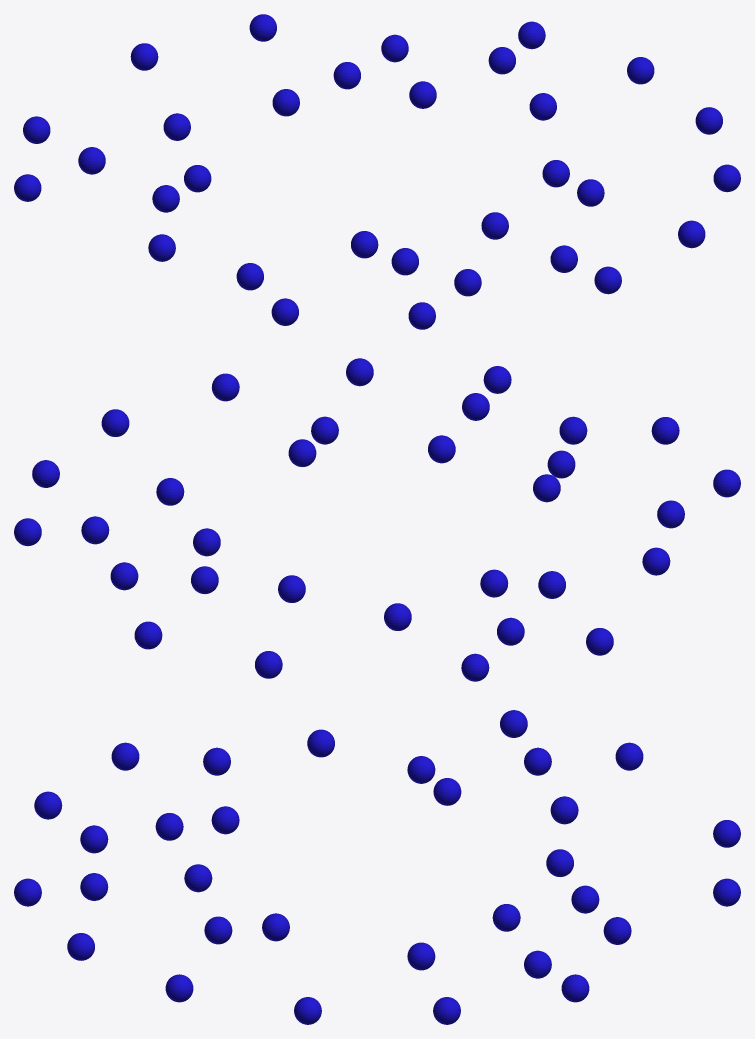
Rendered from Mediumpawnpoints.fbx.
3 renders of one model, top to bottom at view 1: azimuth 30°, elevation 25°; view 2: azimuth 150°, elevation 25°; view 3: azimuth 270°, elevation 25°, orthographic.
Visible parts, largest first — view 1: Mediums; view 2: Mediums; view 3: Mediums.
Boxes of the visible parts, <box> form: Mediums: <box>14,14,740,329</box>; Mediums: <box>14,358,740,681</box>; Mediums: <box>14,710,740,1024</box>.
Bounding box in the file's own units: 1433 × 56.64 × 1474.
